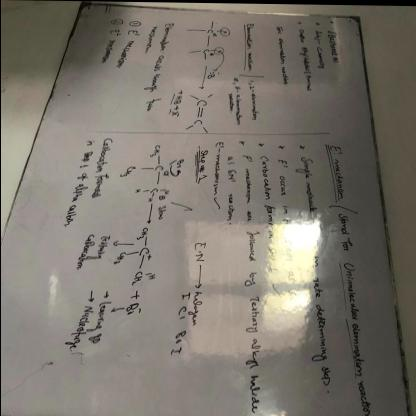Handwritten text: (291, 150, 339, 389), (330, 209, 378, 416), (238, 164, 264, 415), (257, 152, 279, 265), (85, 132, 115, 206), (275, 171, 297, 266)
Whiteboard: (0, 1, 412, 416)
